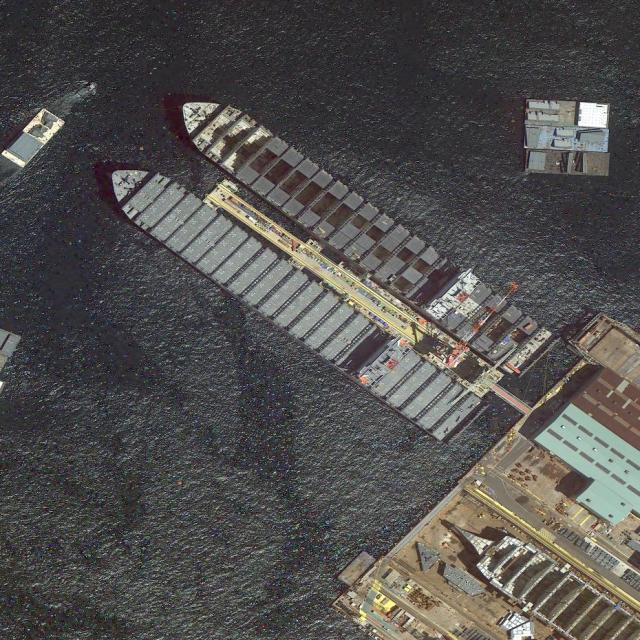Cargo: (95, 147, 490, 454), (164, 79, 559, 386)
Dock: (203, 172, 537, 424)
